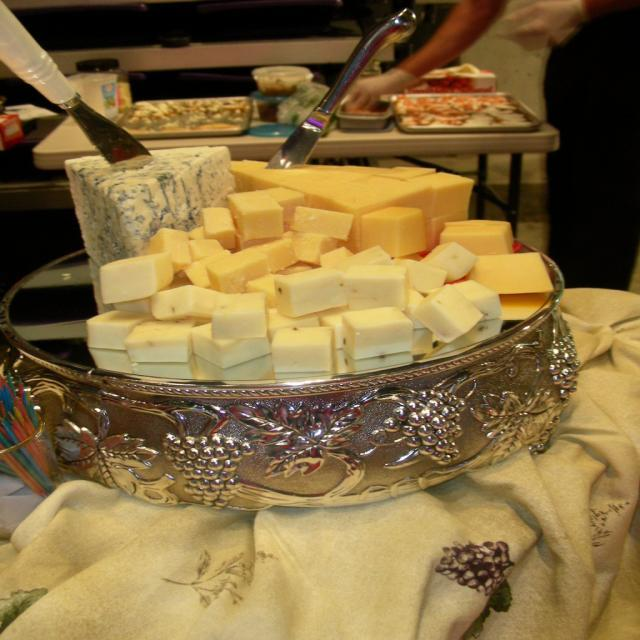Cheese: (85, 240, 503, 373), (231, 158, 557, 294), (63, 144, 233, 266)
